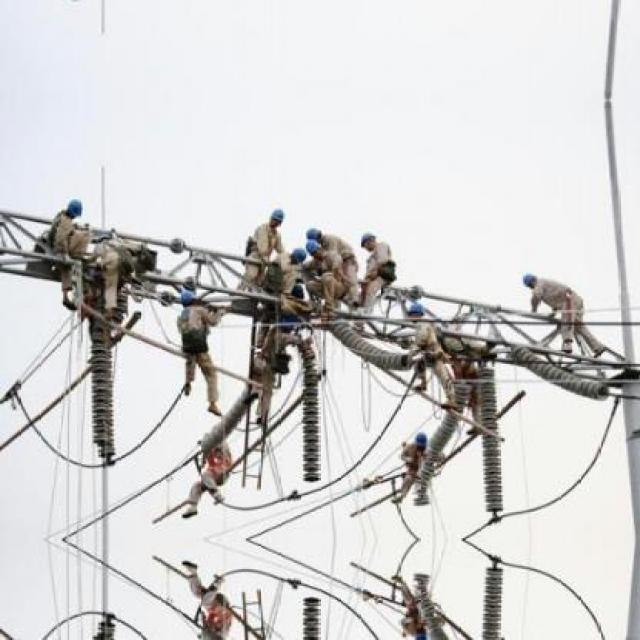Helmet: (63, 194, 83, 224), (306, 239, 328, 264), (412, 427, 430, 457), (406, 299, 428, 322), (180, 287, 200, 311), (522, 268, 543, 290), (358, 233, 380, 254), (283, 246, 305, 264), (270, 205, 284, 233), (305, 224, 326, 242), (411, 620, 429, 637), (62, 0, 83, 6)
